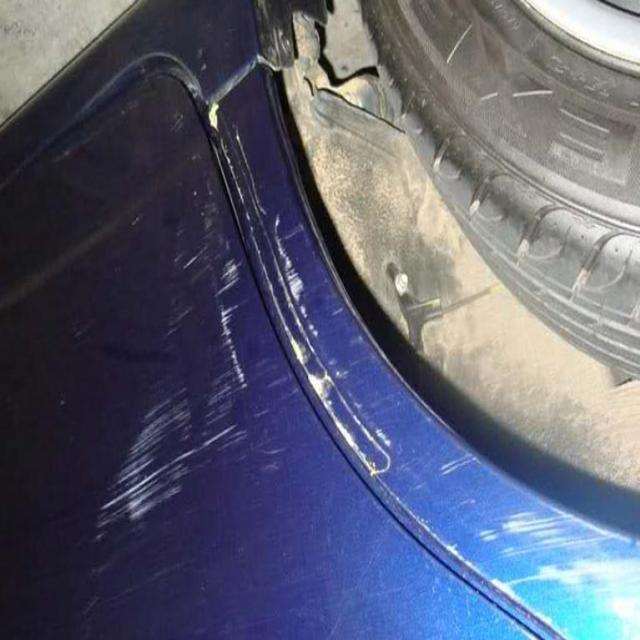scratch: (80, 81, 380, 574), (457, 474, 640, 640)
